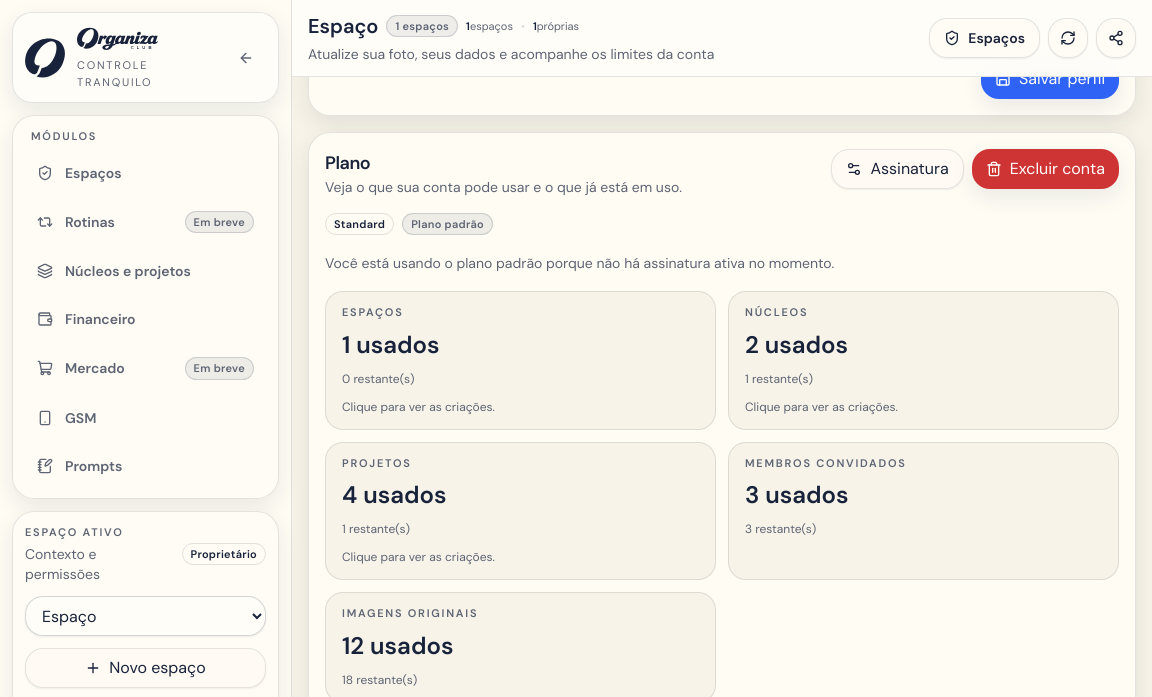
Scenario: ProfilePage › opens the cores modal with the user's creations
(page scrolled)
Click the button "Núcleos 2 usados 1 restante(s) Clique para ver as criações.": (777, 312) left=728, top=291, right=1119, bottom=430
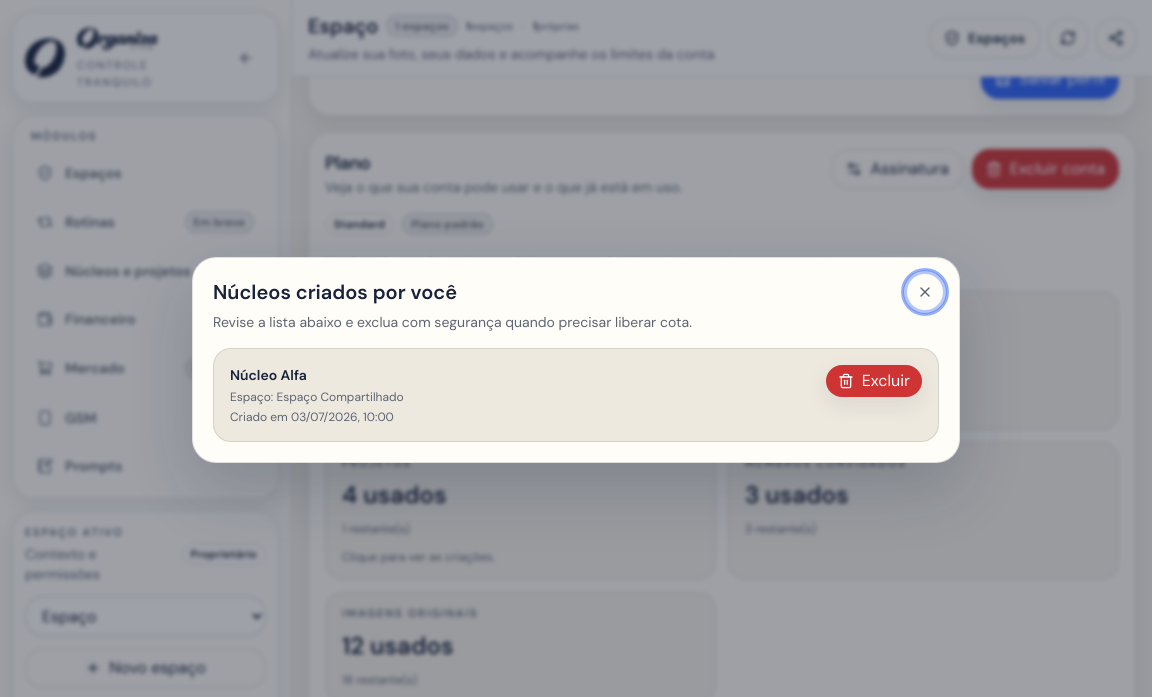
Now the heading "Núcleos criados por você" is shown, box left=213, top=279, right=457, bottom=305
Now the text "Núcleo Alfa" is shown, box left=230, top=366, right=307, bottom=384
Now the text "Espaço: Espaço Compartilhado" is shown, box left=230, top=389, right=404, bottom=405
